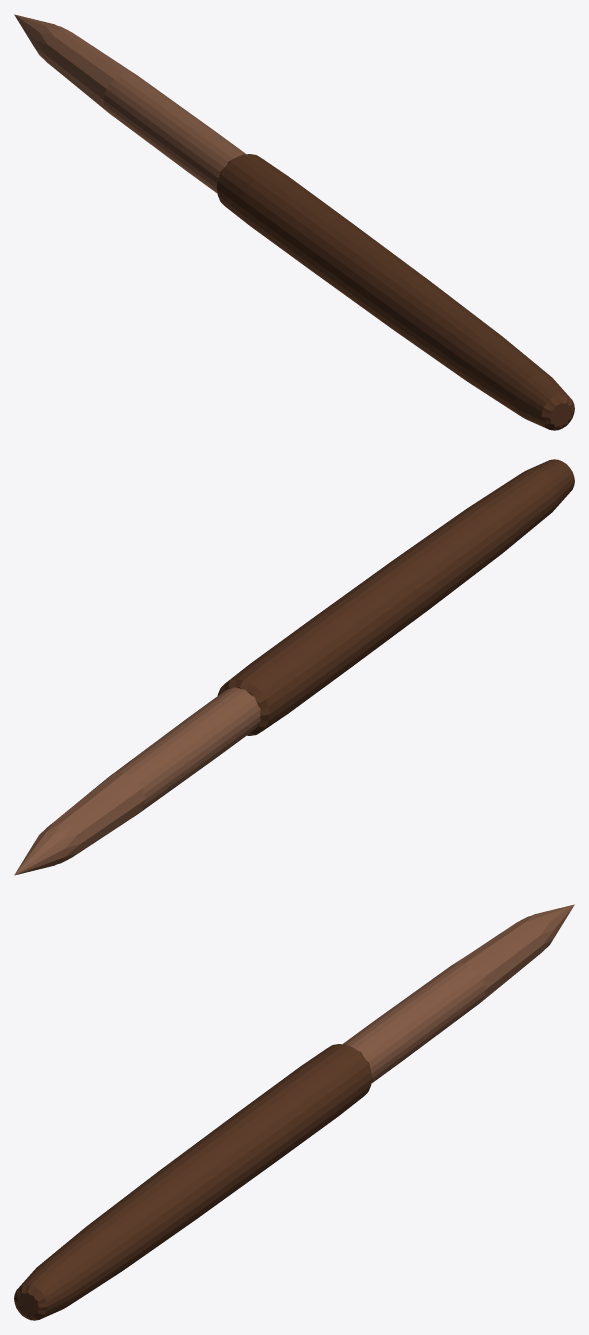
Rendered from Wand 0.glb.
3 renders of one model, top to bottom at view 1: azimuth 30°, elevation 25°; view 2: azimuth 150°, elevation 25°; view 3: azimuth 330°, elevation 25°, orthographic.
Visible parts, largest first — view 1: GeneratedWand; view 2: GeneratedWand; view 3: GeneratedWand.
Boxes of the visible parts, x1=… form: GeneratedWand: x1=14, y1=14, x2=574, y2=430; GeneratedWand: x1=14, y1=459, x2=574, y2=875; GeneratedWand: x1=14, y1=904, x2=574, y2=1320.
Bounding box in the file's own units: 0.0273 × 0.0273 × 0.4753.
